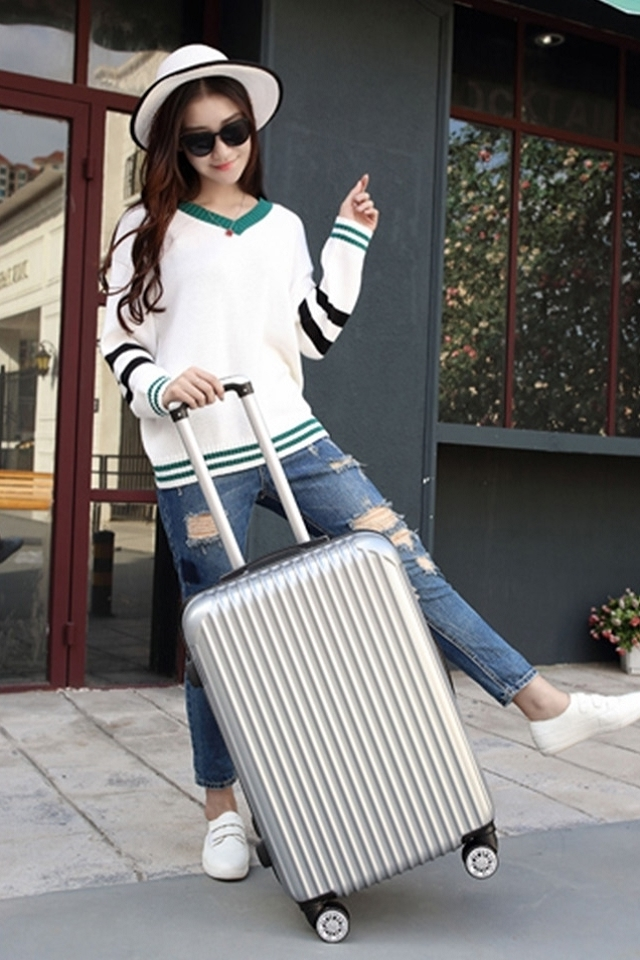box: (178, 531, 496, 908)
handle: (219, 533, 330, 584)
wheel: (310, 902, 352, 944), (461, 836, 499, 880)
